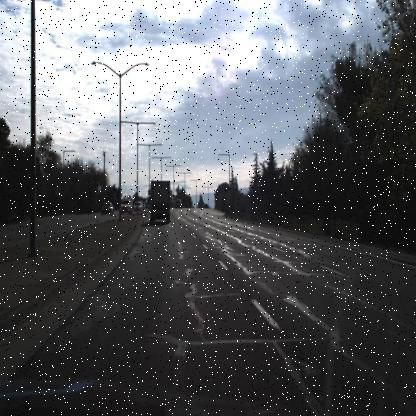car: (96, 196, 116, 219), (116, 195, 132, 219), (100, 200, 113, 216), (121, 199, 132, 215), (174, 198, 182, 209)
truck: (148, 179, 170, 224)
